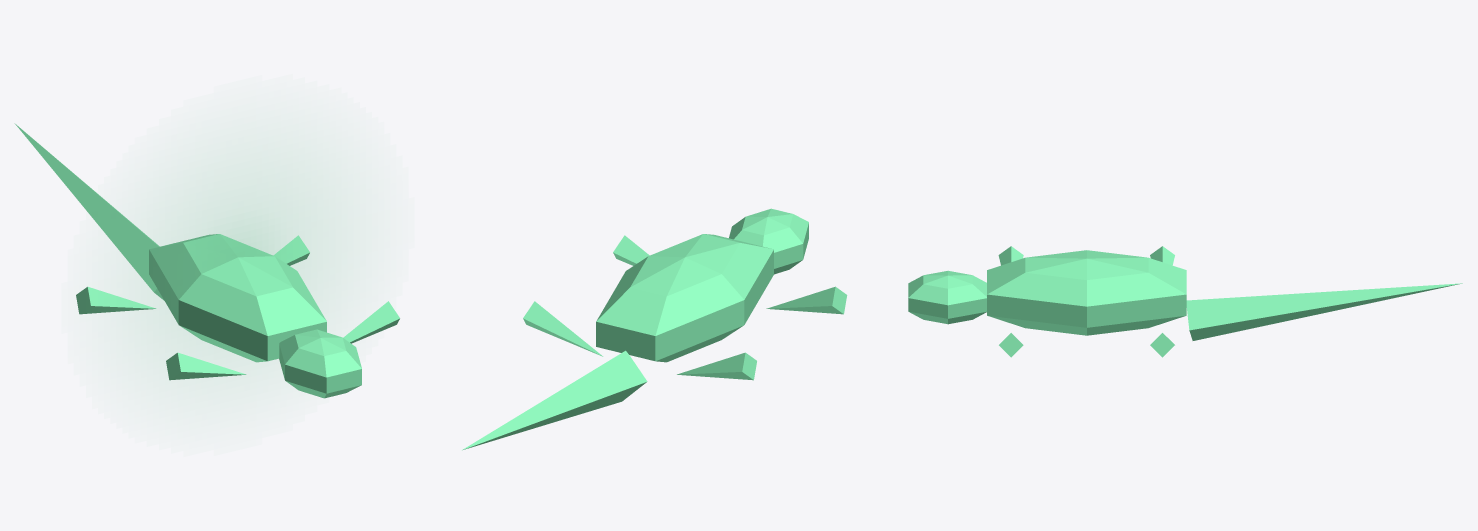
File: swamp_lizard.glb
3 renders of one model, left to right at view 1: azimuth 30°, elevation 25°; view 2: azimuth 150°, elevation 25°; view 3: azimuth 270°, elevation 25°, orthographic. The views are drawn at different scales.
Visible parts, largest first — view 1: n15, n1, n3, n5, n7, n11, n13, n9; view 2: n1, n5, n3, n11, n7, n9, n13; view 3: n1, n5, n3.
Part boxes in pixels (x1,y1,x2,y2): n15: (140, 157, 335, 368); n1: (149, 234, 326, 362); n3: (279, 329, 361, 398); n5: (14, 123, 164, 300); n7: (76, 286, 156, 314); n11: (166, 352, 246, 380); n13: (343, 301, 399, 343); n9: (273, 235, 309, 265); n1: (596, 234, 773, 362); n5: (462, 350, 647, 450); n3: (729, 208, 808, 274); n11: (766, 286, 847, 314); n7: (677, 352, 756, 380); n9: (523, 301, 603, 356); n13: (613, 235, 649, 265); n1: (987, 250, 1186, 335); n5: (1186, 283, 1462, 340); n3: (908, 270, 986, 324).
Size of the model in its own units: 1.5 by 1.5 by 2.2.
Materials: 2 (1 with a texture image).
